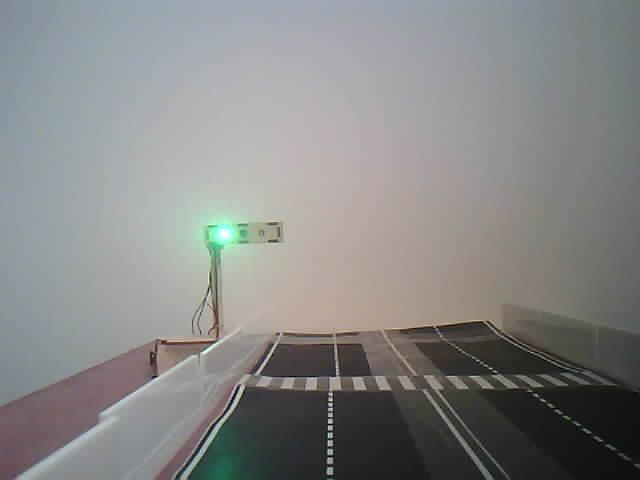crosswalk: (236, 356, 613, 395)
green: (193, 207, 298, 318)
